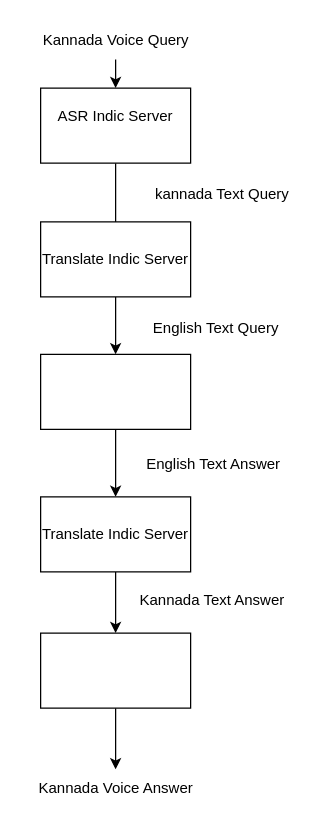
This 324x828 diagram has some shape labels left out. Here are the shapes that lost their labels. From the top down, the centre of each, then its label:
At point 115,391: "LLM Server".
At point 115,670: "TTS Indic Server Text to Speech".
